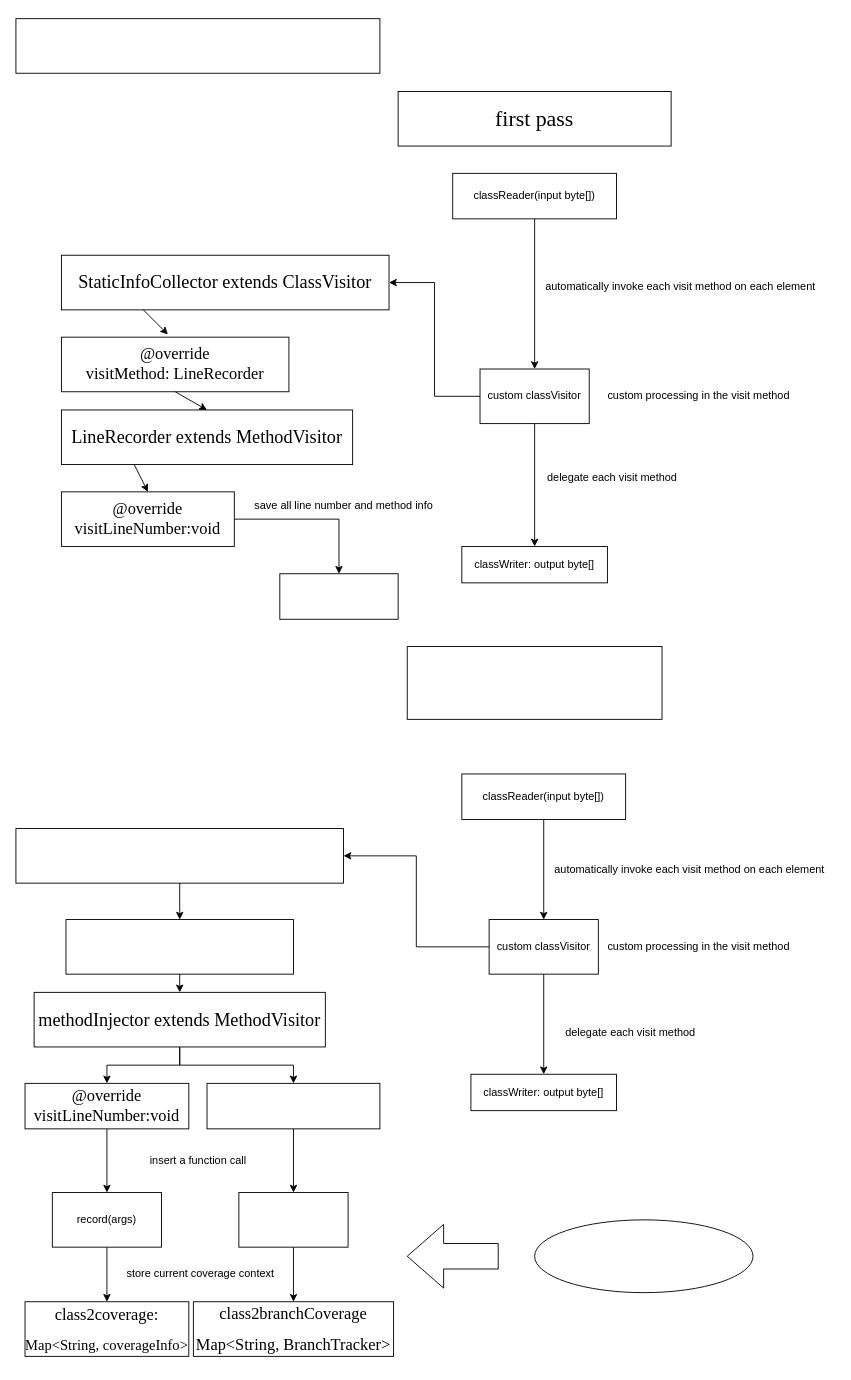
This 851x1380 diagram has some shape labels left out. Here are the shapes that lost their labels. From the top down, the centre of each, then its label:
the point at 197,45: mainDriver implements ClassFileTransformer
the point at 338,596: FirstPassResult: method -> Set<Line#>
the point at 534,682: second pass
the point at 179,855: CoverageRecorder extends ClassVisitor
the point at 179,946: @override visitMethod: methodInjector
the point at 293,1105: @override visitJumpInsn:void
the point at 293,1219: recoredBranch(args)
the point at 643,1256: runtime during junit test
